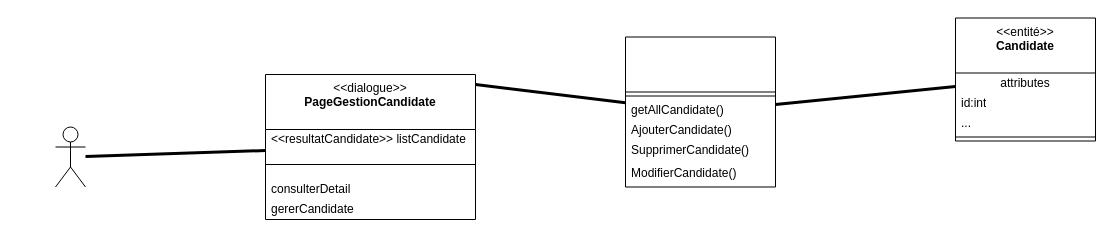
This 1113x237 diagram has some shape labels left out. The shapes that lost their labels are listed below. From the top down, each one's box as (x1, y1, x2, y2) in pixels, then its label:
(624, 36, 776, 187): <<contrôle>> CtrlGestionCandidate
(54, 126, 86, 187): ADMINISTRATEUR
